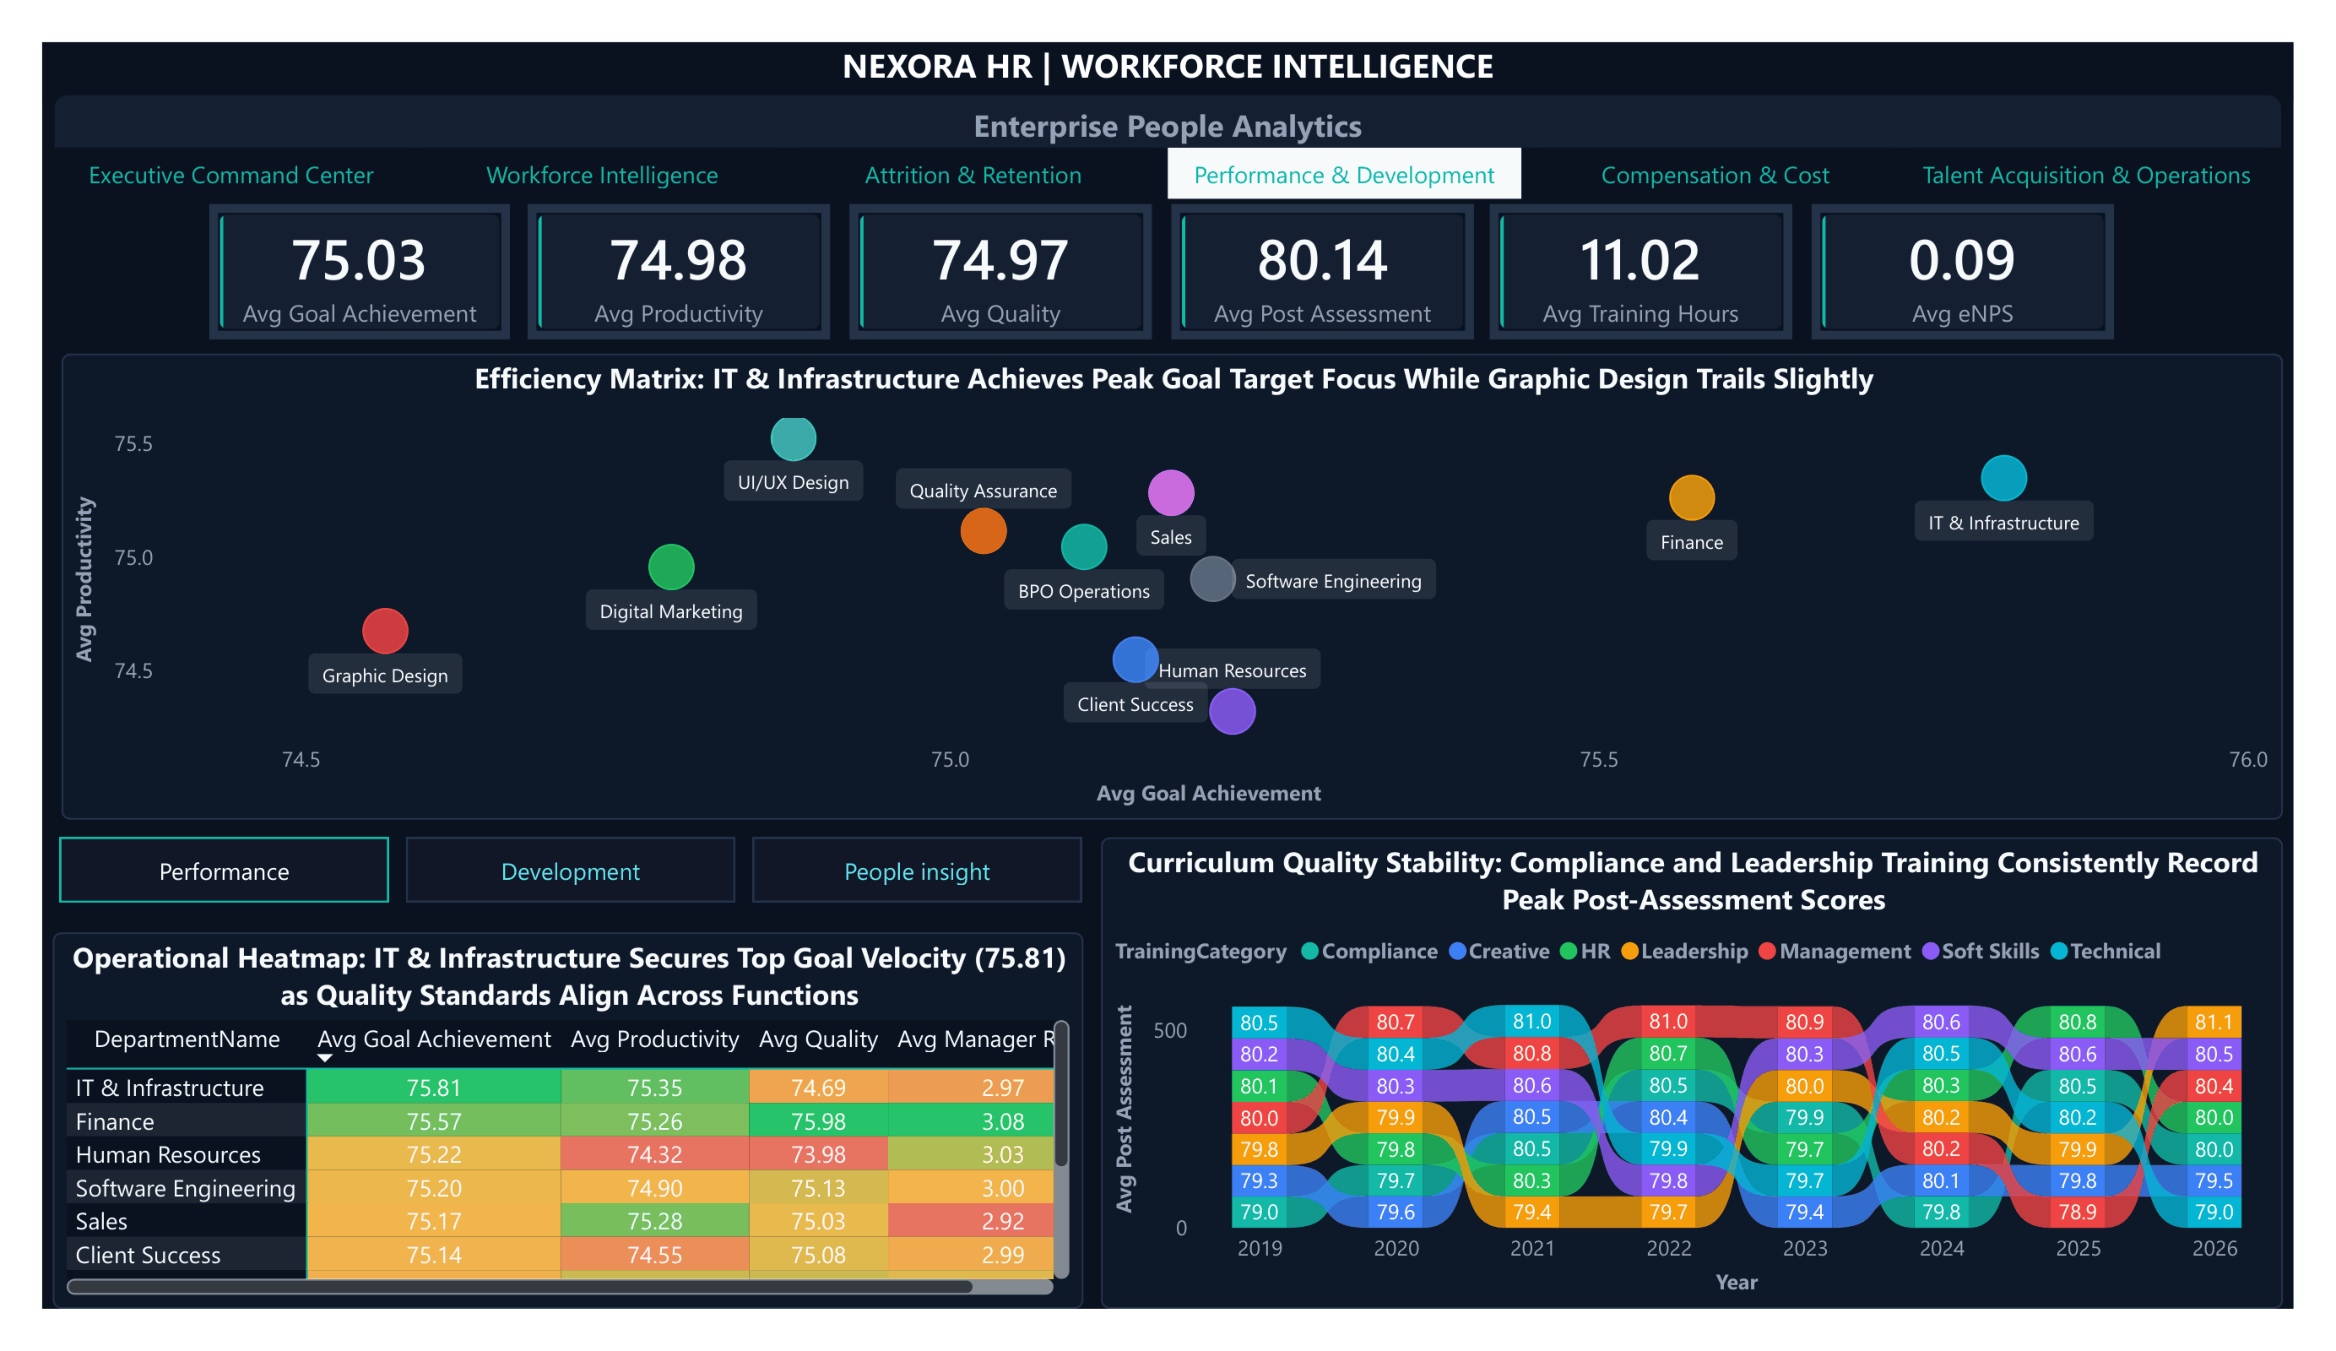

What the dashboard file says about the page in this screenshot:
{"tool":"powerbi","page":{"name":"Performance & Development","canvas":[1280,720],"ordinal":3},"visuals":[{"type":"shape","title":"NEXORA HR | WORKFORCE INTELLIGENCE","box":[7.1,0,1265.7,60],"z":0},{"type":"scatterChart","title":"Leadership Pipeline Mapping: IT, Finance, and Sales Establish the Strongest Readiness Benches (58.4+) Nationwide","fields":{"X":["_Measures.Promotion Readiness Index"],"Y":["_Measures.Avg Performance Score"],"Category":["DimDepartment.DepartmentName"],"Series":["DimDepartment.DepartmentName"],"Size":["_Measures.Employee Count"]},"box":[7.1,177.2,1265.7,265],"z":2000},{"type":"pageNavigator","box":[7.1,59.5,1255.7,29.8],"z":3000},{"type":"cardVisual","fields":{"Data":["_Measures.Avg Goal Achievement"]},"box":[95,92.1,171.5,76.5],"z":6000},{"type":"cardVisual","fields":{"Data":["_Measures.Avg Productivity"]},"box":[276.4,92.1,171.5,76.5],"z":8000},{"type":"cardVisual","fields":{"Data":["_Measures.Avg Quality"]},"box":[459.2,92.1,171.5,76.5],"z":9000},{"type":"cardVisual","fields":{"Data":["_Measures.Avg Post Assessment"]},"box":[642,92.1,171.5,76.5],"z":10000},{"type":"cardVisual","fields":{"Data":["_Measures.Avg Training Hours"]},"box":[823.5,92.1,171.5,76.5],"z":11000},{"type":"cardVisual","fields":{"Data":["_Measures.Avg eNPS"]},"box":[1006.3,92.1,171.5,76.5],"z":12000},{"type":"scatterChart","title":"Training Program ROI: Data Analytics and Advanced Graphic Design Yield Competent Outcomes with Minimal Training Hours","fields":{"X":["_Measures.Avg Training Hours"],"Y":["_Measures.Avg Post Assessment"],"Size":["Avg(FactTraining.TrainingCost)"],"Category":["DimTraining.TrainingName"],"Series":["FactTraining.TrainingKey"]},"box":[7.1,462,1265.7,258],"z":13000},{"type":"bookmarkNavigator","box":[344.4,442.2,581.1,19.8],"z":16000}]}

Visuals, with their boxes in screenshot pixels (x1, y1, x2, y2), scaled from the page's 1280x720 canvas onto the 2336x1351 screenshot:
"NEXORA HR | WORKFORCE INTELLIGENCE" shape: [left=13, top=0, right=2323, bottom=113]
"Leadership Pipeline Mapping: IT, Finance, and Sales Establish the Strongest Readiness Benches (58.4+) Nationwide" scatterChart: [left=13, top=332, right=2323, bottom=830]
pageNavigator: [left=13, top=112, right=2305, bottom=168]
cardVisual - _Measures.Avg Goal Achievement: [left=173, top=173, right=486, bottom=316]
cardVisual - _Measures.Avg Productivity: [left=504, top=173, right=817, bottom=316]
cardVisual - _Measures.Avg Quality: [left=838, top=173, right=1151, bottom=316]
cardVisual - _Measures.Avg Post Assessment: [left=1172, top=173, right=1485, bottom=316]
cardVisual - _Measures.Avg Training Hours: [left=1503, top=173, right=1816, bottom=316]
cardVisual - _Measures.Avg eNPS: [left=1836, top=173, right=2149, bottom=316]
"Training Program ROI: Data Analytics and Advanced Graphic Design Yield Competent Outcomes with Minimal Training Hours" scatterChart: [left=13, top=867, right=2323, bottom=1350]
bookmarkNavigator: [left=629, top=830, right=1689, bottom=867]
